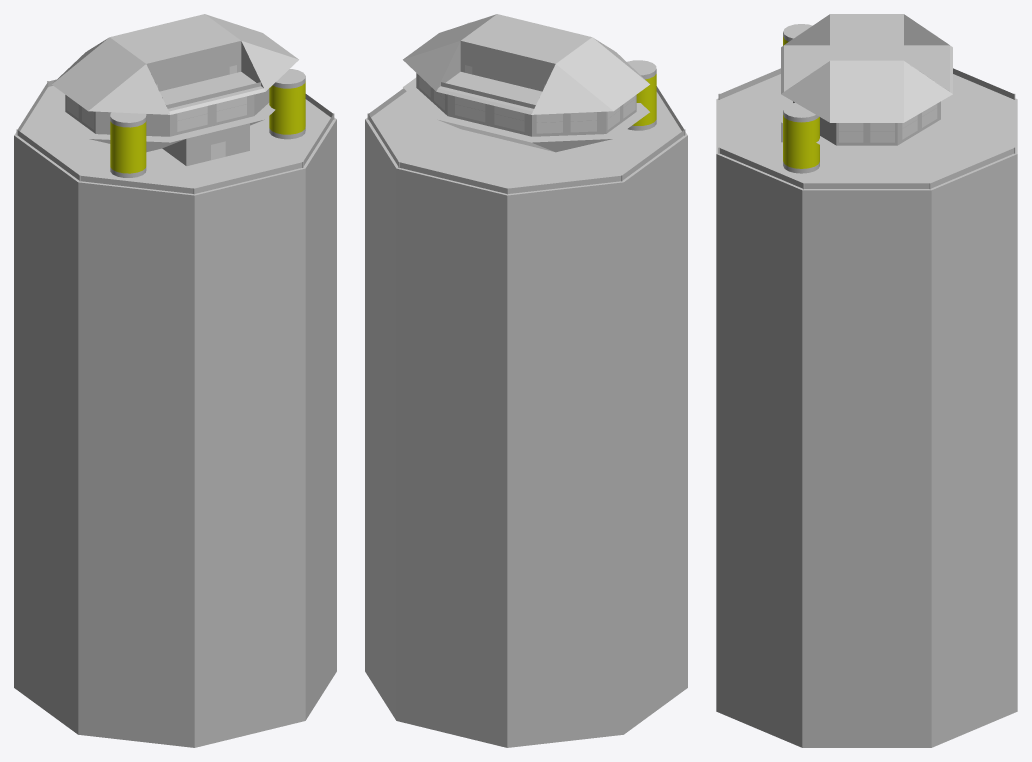
File: factory1_lod3.dae
The picture shows the model from 3 angles, left to right: view 1: azimuth 30°, elevation 25°; view 2: azimuth 150°, elevation 25°; view 3: azimuth 270°, elevation 25°; orthographic projection.
Visible parts, largest first — view 1: factory1_lod3; view 2: factory1_lod3; view 3: factory1_lod3.
Boxes of the visible parts, box(x1,y1,x2,y2) form: factory1_lod3: box(14, 14, 336, 747); factory1_lod3: box(365, 14, 687, 747); factory1_lod3: box(716, 14, 1017, 747).
Bounding box in the file's own units: 98 × 98 × 232.
